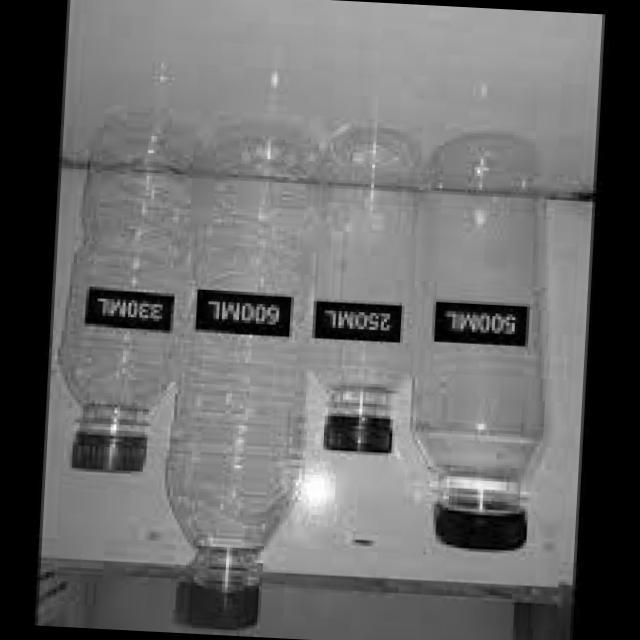good: (45, 92, 202, 489)
